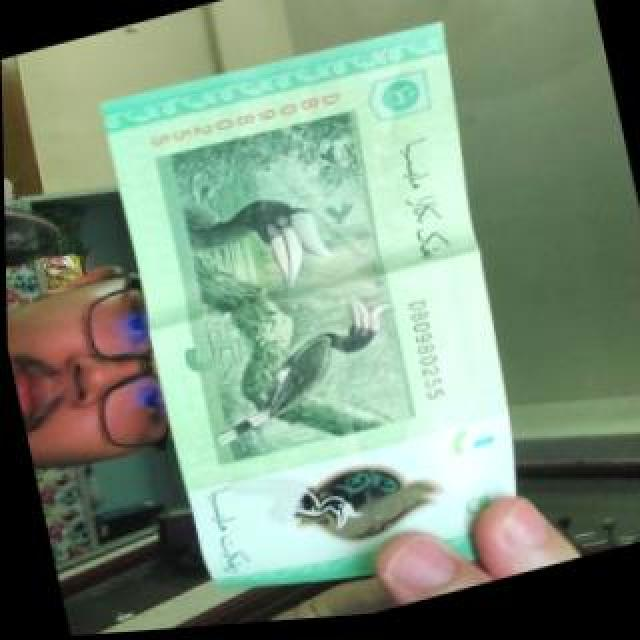5 Ringgit: (92, 14, 540, 636)
